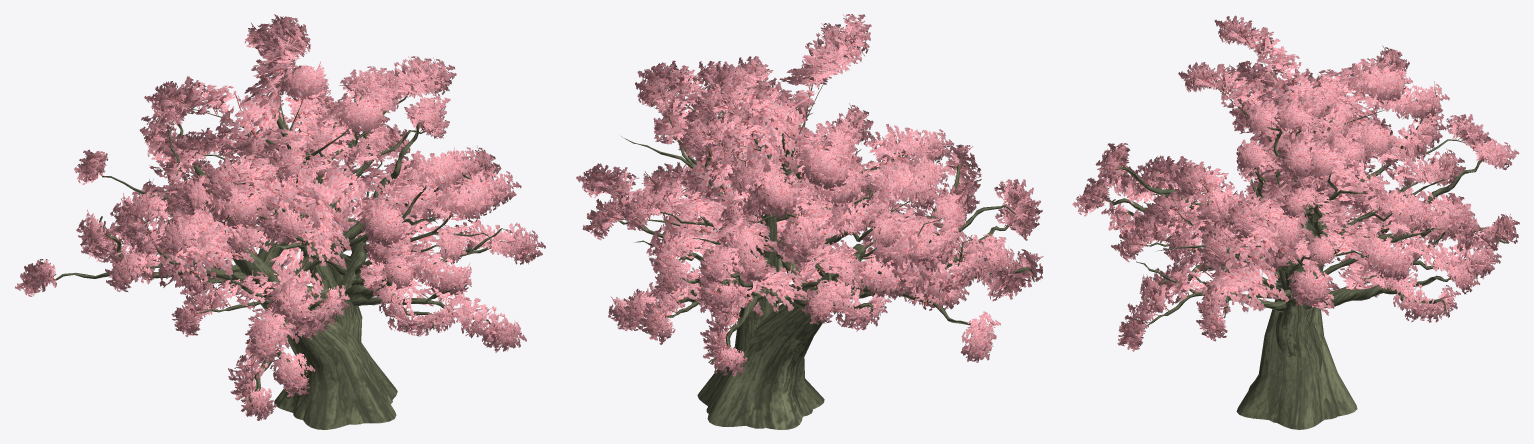
Rendered from cerezos.glb.
3 renders of one model, left to right at view 1: azimuth 30°, elevation 25°; view 2: azimuth 150°, elevation 25°; view 3: azimuth 270°, elevation 25°, orthographic. The views are drawn at different scales.
Visible parts, largest first — view 1: cerezo0, cerezo2, cerezo1; view 2: cerezo2, cerezo0, cerezo1; view 3: cerezo0, cerezo2, cerezo1.
Part boxes in pixels (bbox=[...]): cerezo0: bbox=[144, 14, 545, 352]; cerezo2: bbox=[15, 59, 471, 429]; cerezo1: bbox=[161, 96, 466, 424]; cerezo2: bbox=[696, 56, 1043, 429]; cerezo0: bbox=[576, 14, 969, 344]; cerezo1: bbox=[608, 115, 909, 428]; cerezo0: bbox=[1111, 15, 1501, 351]; cerezo2: bbox=[1072, 68, 1519, 429]; cerezo1: bbox=[1135, 110, 1481, 422].
Size of the model in its own units: 14.84 by 11.99 by 13.55.
2 materials, 2 textured.
